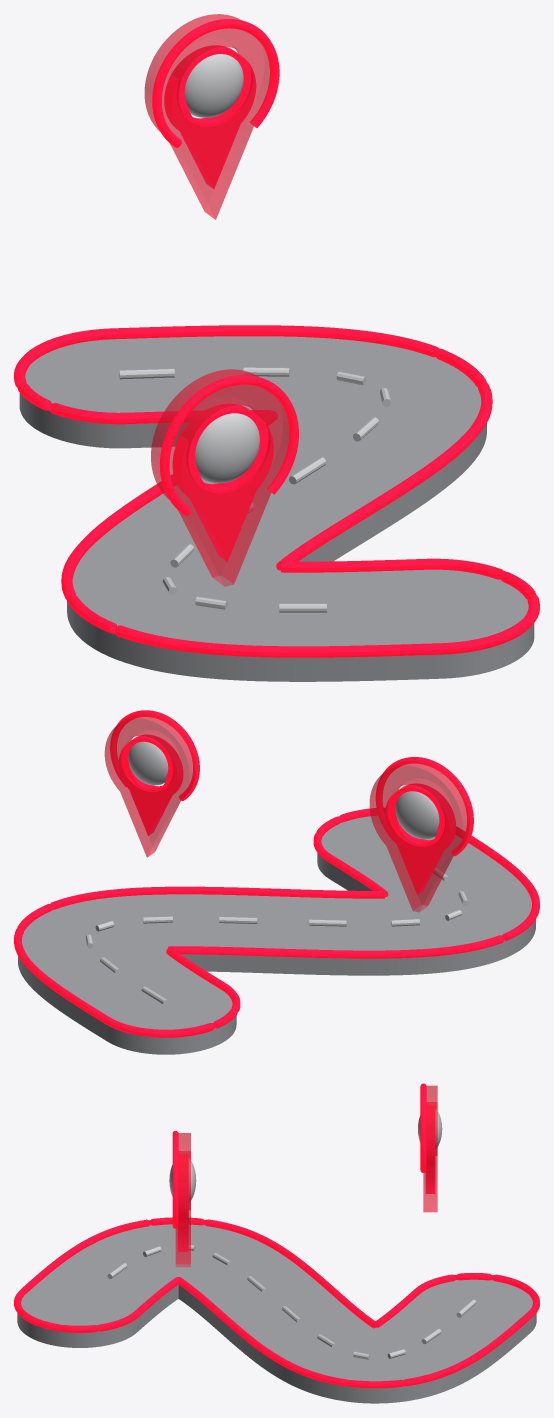
File: 26-roadmap.glb
3 renders of one model, top to bottom at view 1: azimuth 30°, elevation 25°; view 2: azimuth 150°, elevation 25°; view 3: azimuth 270°, elevation 25°, orthographic. The views are drawn at different scales.
Parts seen in each view (by area): view 1: BC brushed iron, BC internal ruby light, BC ruby optical glass, BC satin iron; view 2: BC brushed iron, BC internal ruby light, BC ruby optical glass, BC satin iron; view 3: BC brushed iron, BC internal ruby light, BC ruby optical glass, BC satin iron.
Part boxes in pixels (x1,y1,x2,y2): BC brushed iron: (19,336,534,681); BC internal ruby light: (14,19,539,657); BC ruby optical glass: (144,14,289,586); BC satin iron: (119,54,390,612); BC brushed iron: (18,816,535,1054); BC internal ruby light: (14,710,539,1037); BC ruby optical glass: (104,714,469,912); BC satin iron: (85,741,468,1005); BC brushed iron: (17,1224,536,1403); BC internal ruby light: (14,1083,539,1388); BC ruby optical glass: (175,1085,437,1266); BC satin iron: (107,1109,476,1359).
Size of the model in its own units: 1.96 by 1.37 by 2.6.
